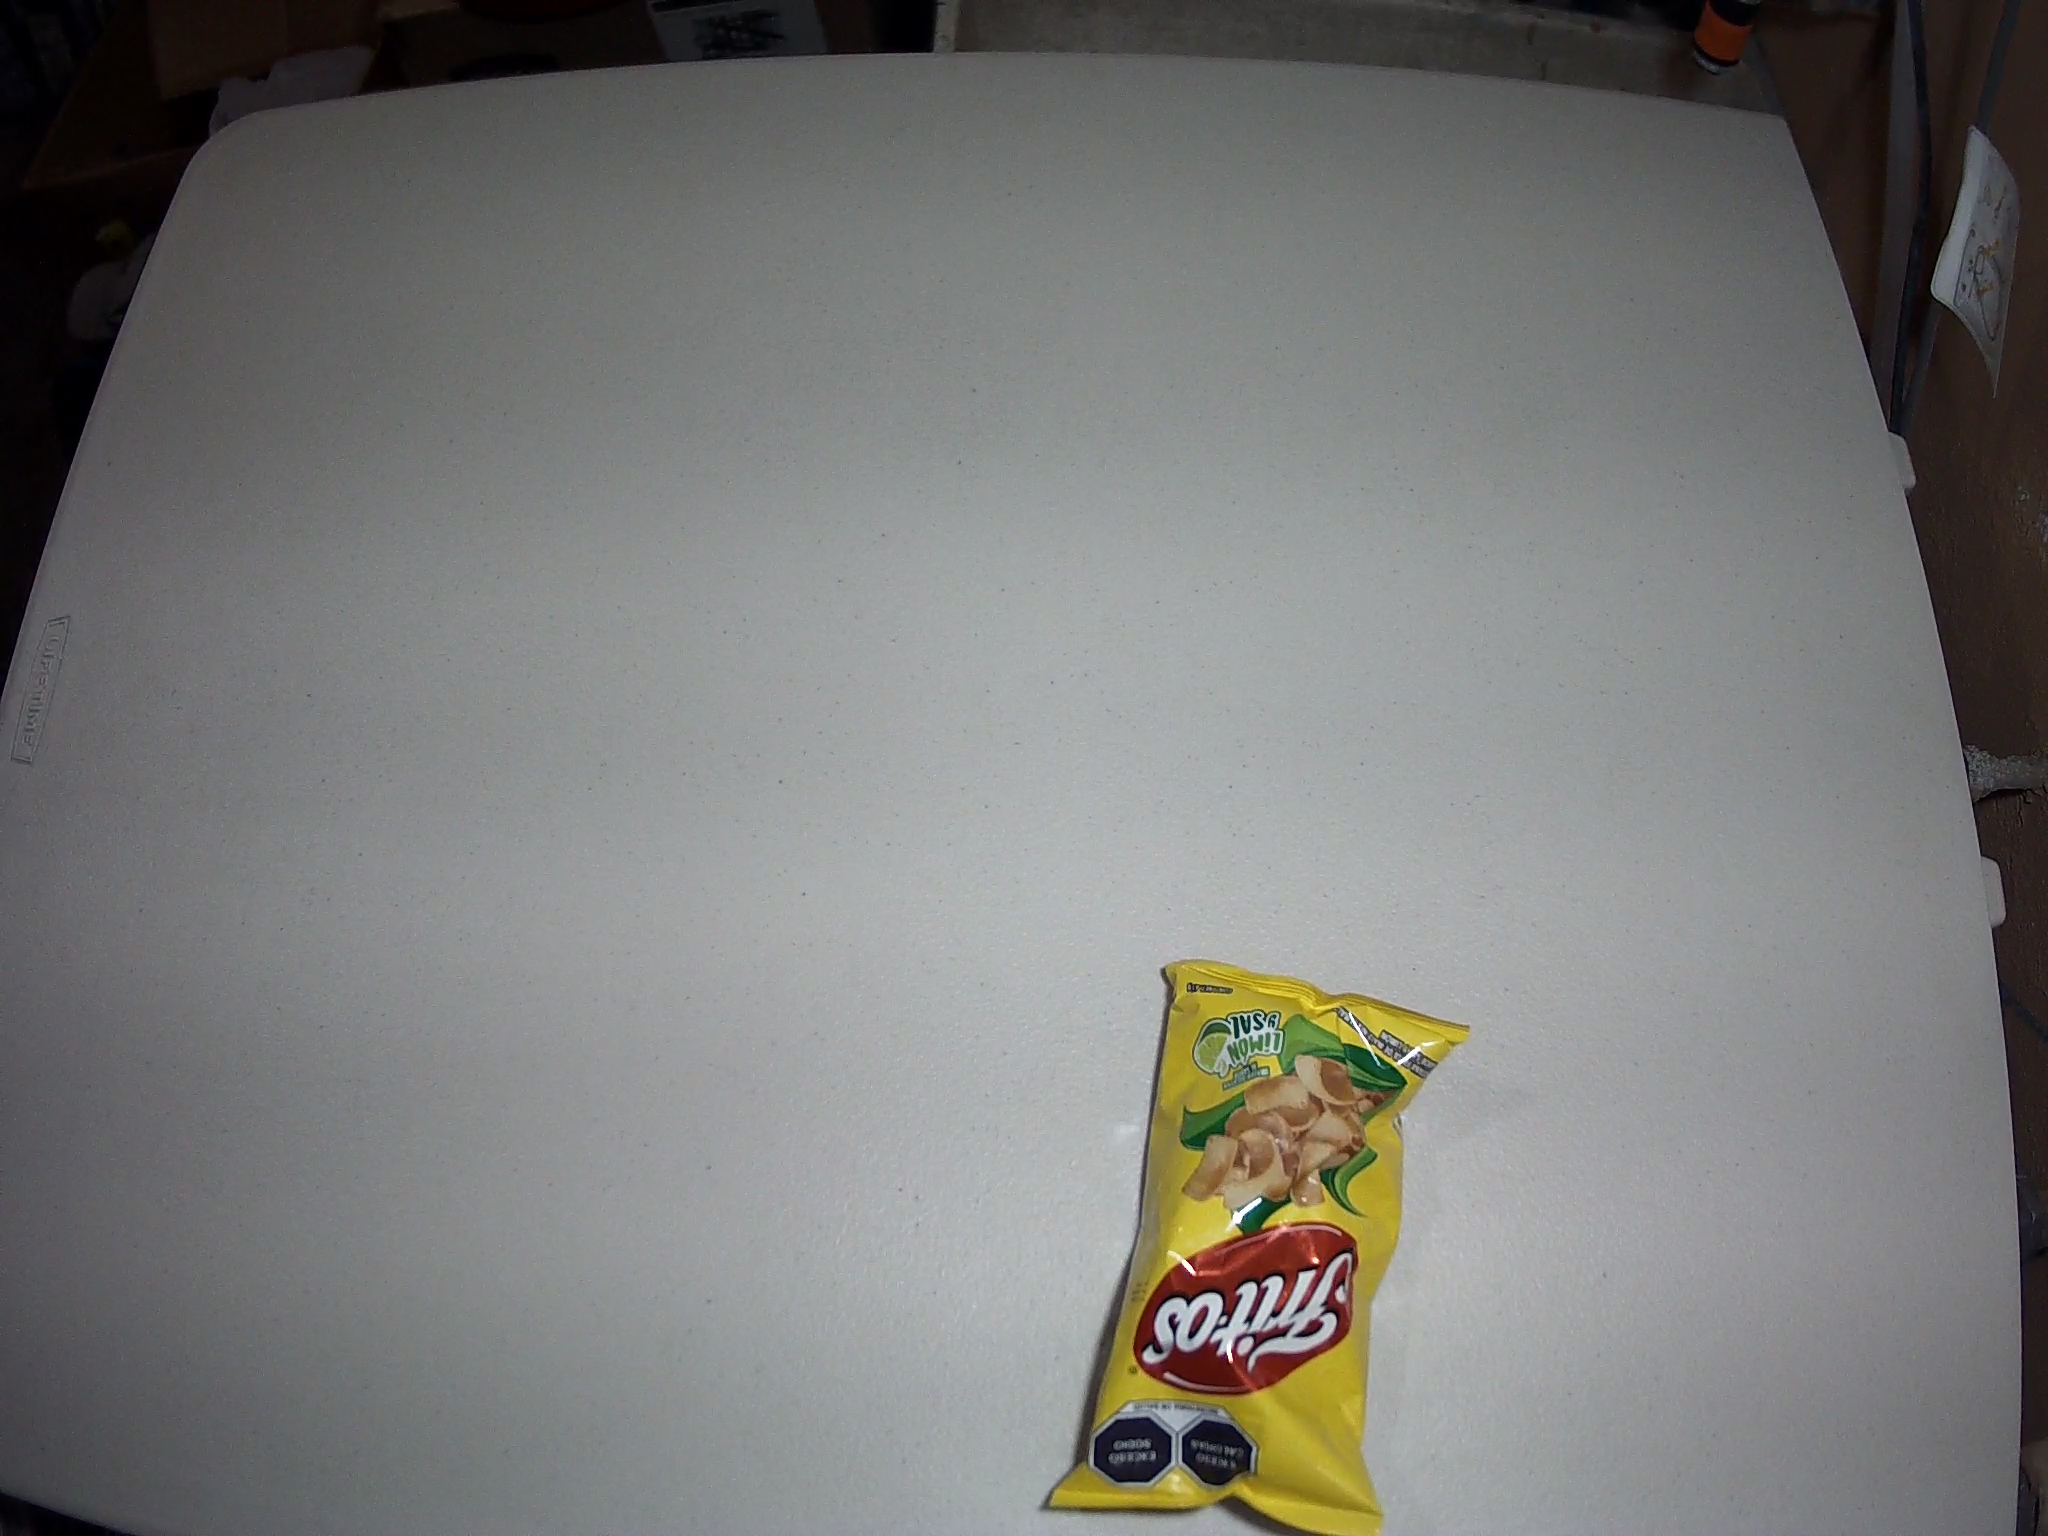FritosSalLimon_65_F: (1047, 960, 1469, 1536)
